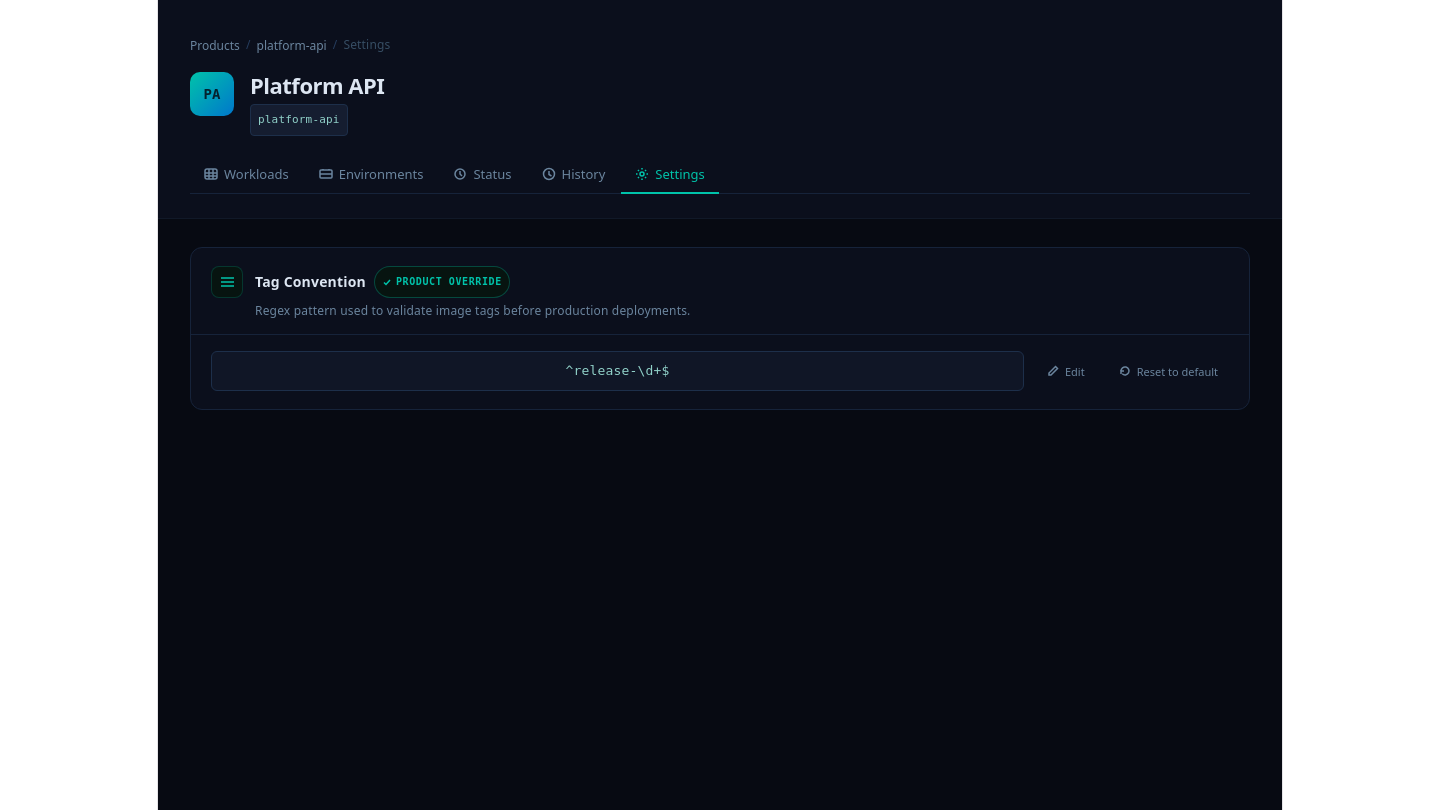
Scenario: ProductSettingsPage — edit mode › pre-fills the input with the current regex value when Edit is clicked
What coordinates should you click on to do the following:
click the button "Edit"
I would click on:
 (1066, 371)
Its box is [1036,359,1096,384].
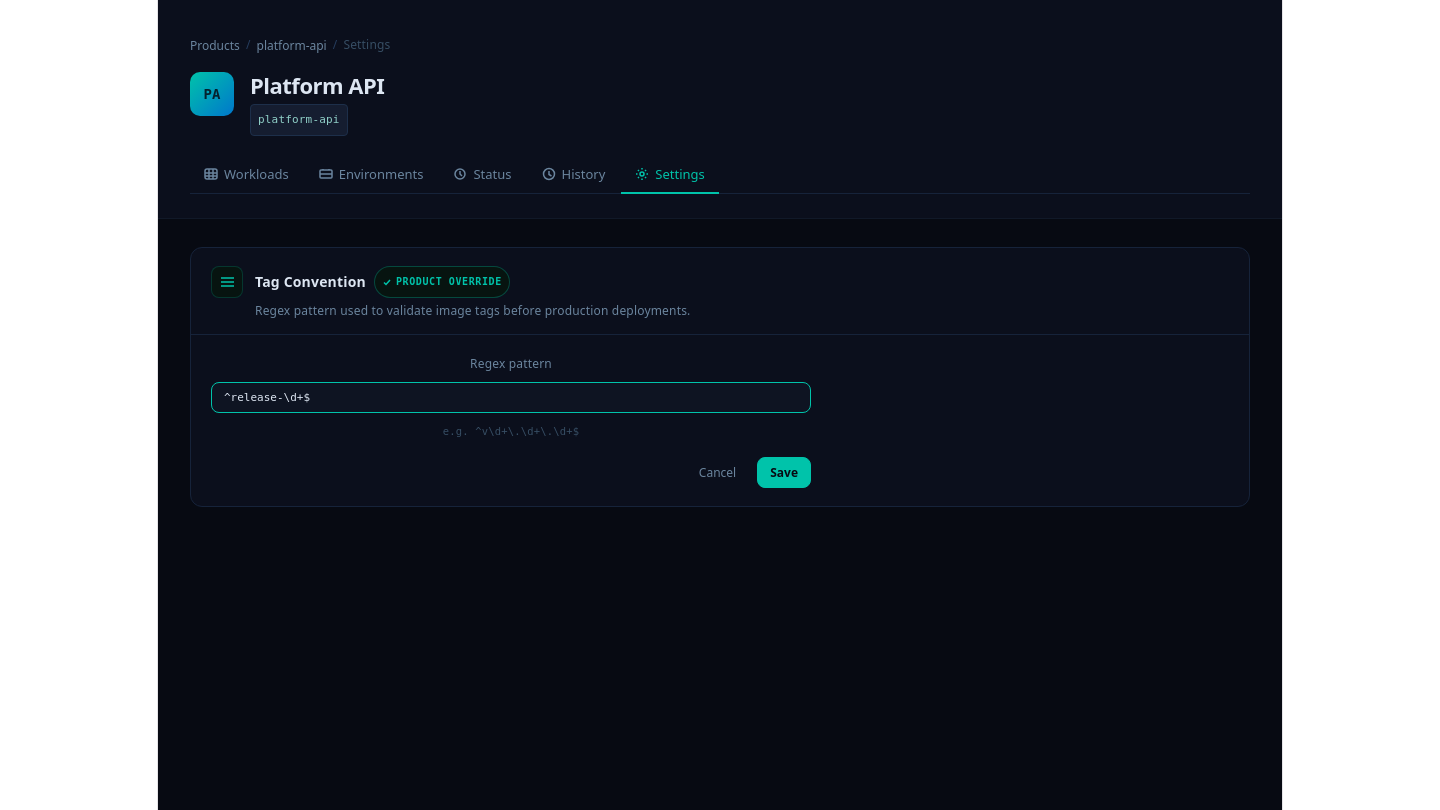
Expected: the field labelled "Regex pattern" holds "^release-\\d+$", [211,382,811,414]
